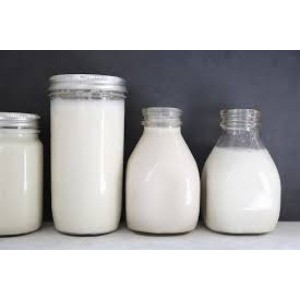milk_brain food: (48, 96, 120, 231), (128, 132, 192, 231), (207, 146, 277, 233), (1, 128, 42, 235)
